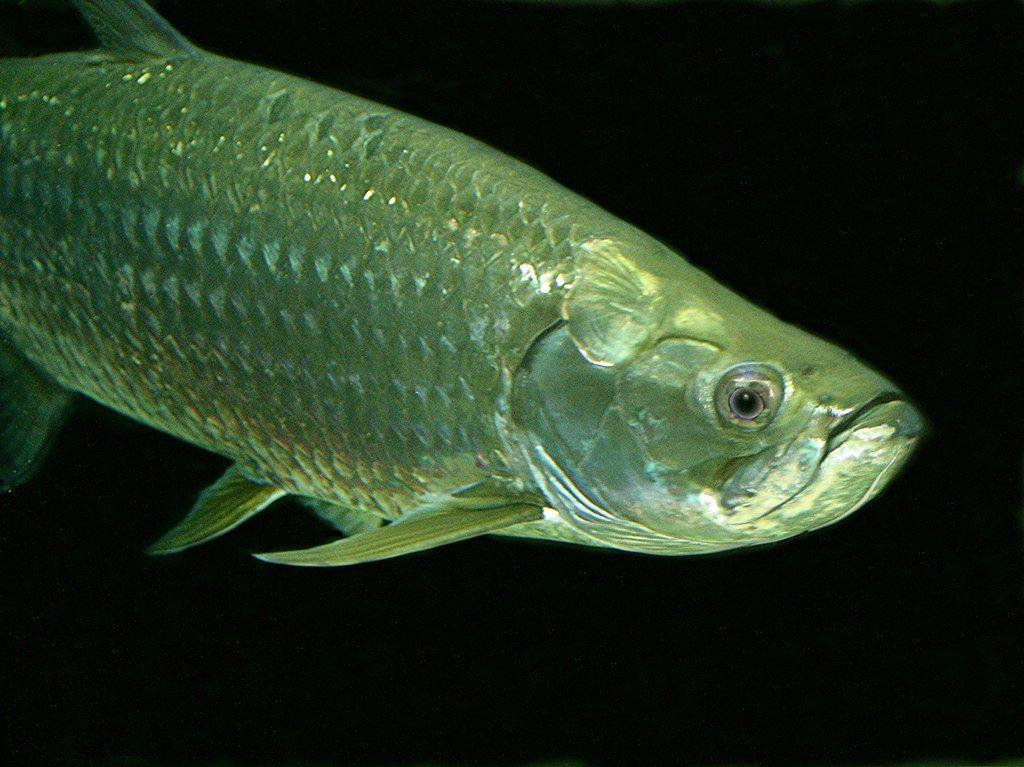Indo-Pacific Tarpon: (7, 4, 920, 574)
